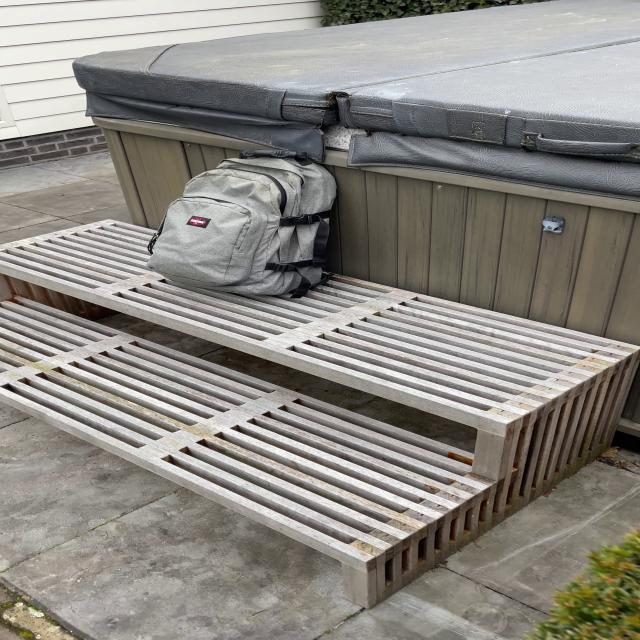backpack: (141, 145, 346, 297)
